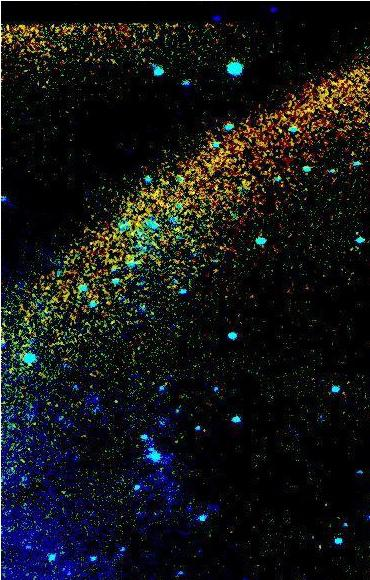star: (134, 429, 164, 459)
